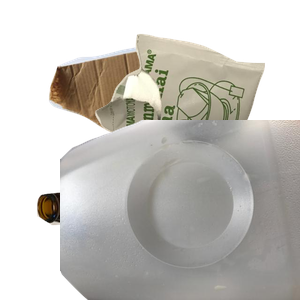cardboard: (46, 40, 226, 179)
glass: (34, 170, 223, 300)
plastic: (60, 120, 300, 300)
trash: (93, 31, 300, 205)
